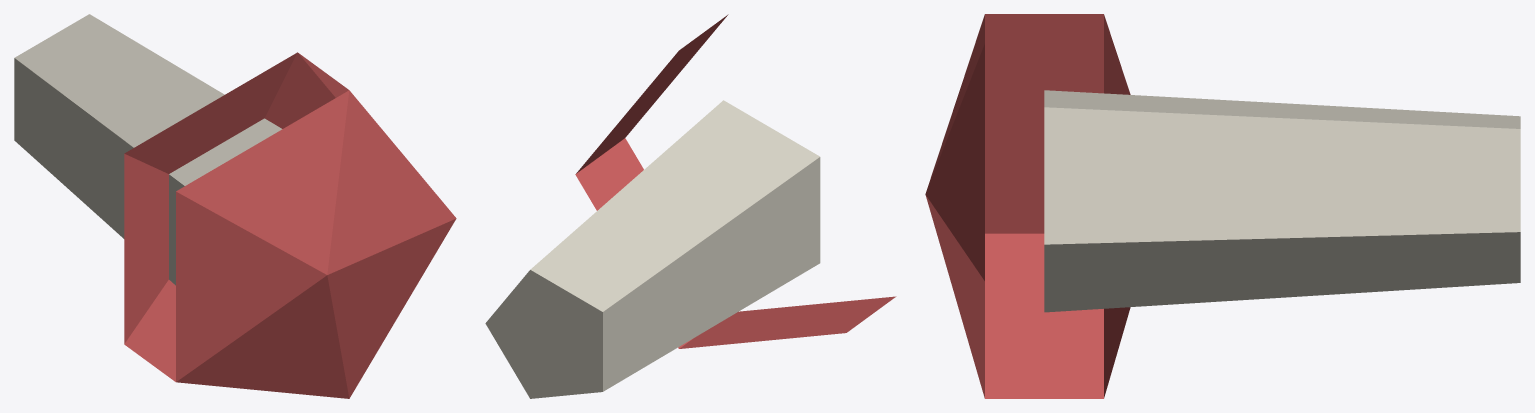
Rendered from mushroom.glb.
3 views of the same model, side by side, from view 1: azimuth 30°, elevation 25°; view 2: azimuth 150°, elevation 25°; view 3: azimuth 270°, elevation 25° (orthographic). The views are drawn at different scales.
Visible parts, largest first — view 1: geometry_0; view 2: geometry_0; view 3: geometry_0.
Boxes of the visible parts, <box> form: geometry_0: <box>14,14,456,398</box>; geometry_0: <box>485,14,896,398</box>; geometry_0: <box>925,14,1520,398</box>.
Bounding box in the file's own units: 0.0627 × 0.0659 × 0.1.
